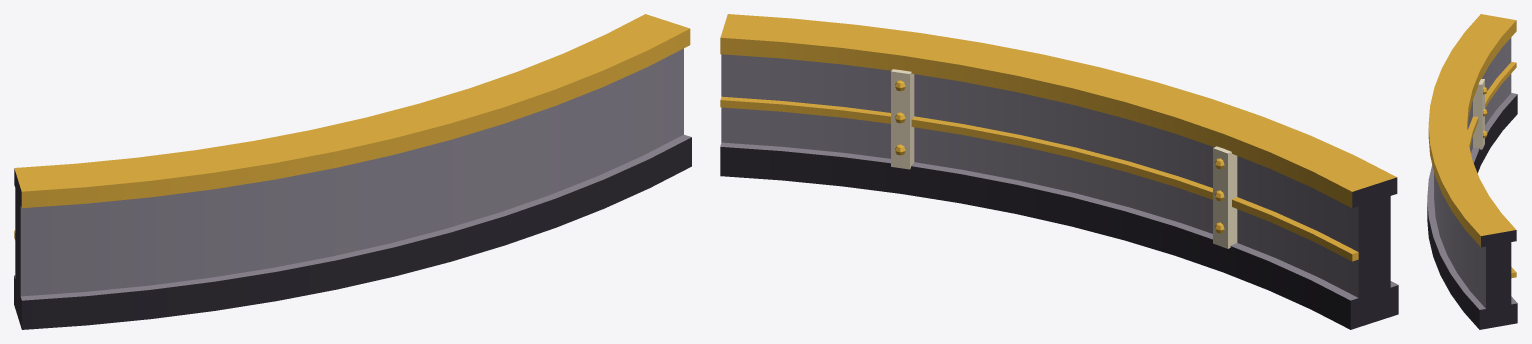
The model's file is vault_wall_segment.glb.
The picture shows the model from 3 angles, left to right: view 1: azimuth 30°, elevation 25°; view 2: azimuth 150°, elevation 25°; view 3: azimuth 270°, elevation 25°; orthographic projection. The views are drawn at different scales.
Visible parts, largest first — view 1: vault_wall_segment; view 2: vault_wall_segment; view 3: vault_wall_segment.
Boxes of the visible parts, x1,y1,x2,y2 form: vault_wall_segment: (14,14,691,329); vault_wall_segment: (720,14,1398,329); vault_wall_segment: (1427,14,1517,329).
Bounding box in the file's own units: 7.65 × 1.5 × 1.32.
